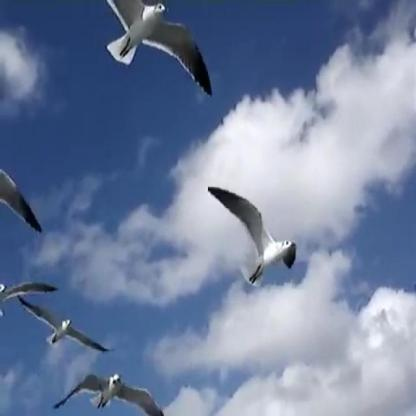bird: (106, 0, 221, 96), (209, 184, 299, 292), (18, 297, 109, 365), (48, 374, 173, 413), (0, 267, 57, 314)
